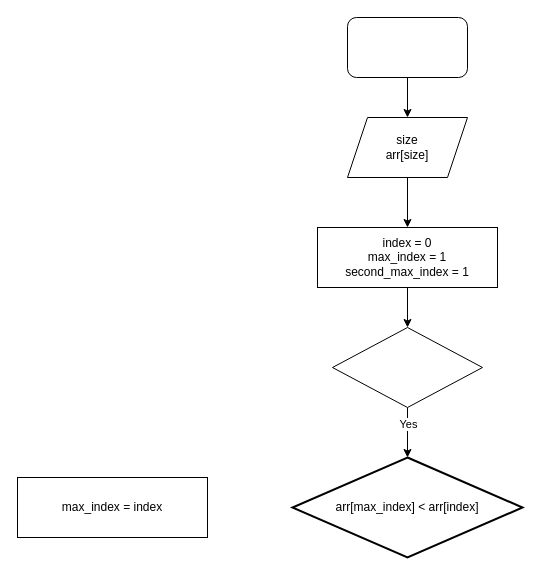
The diagram is 541 pixels wide and 576 high, and some of its shapes have lost their labels. Each missing label, with the box of its shape:
index < size: (332, 326, 482, 408)
Нахождение 2-го максимального числа: (346, 16, 468, 78)
